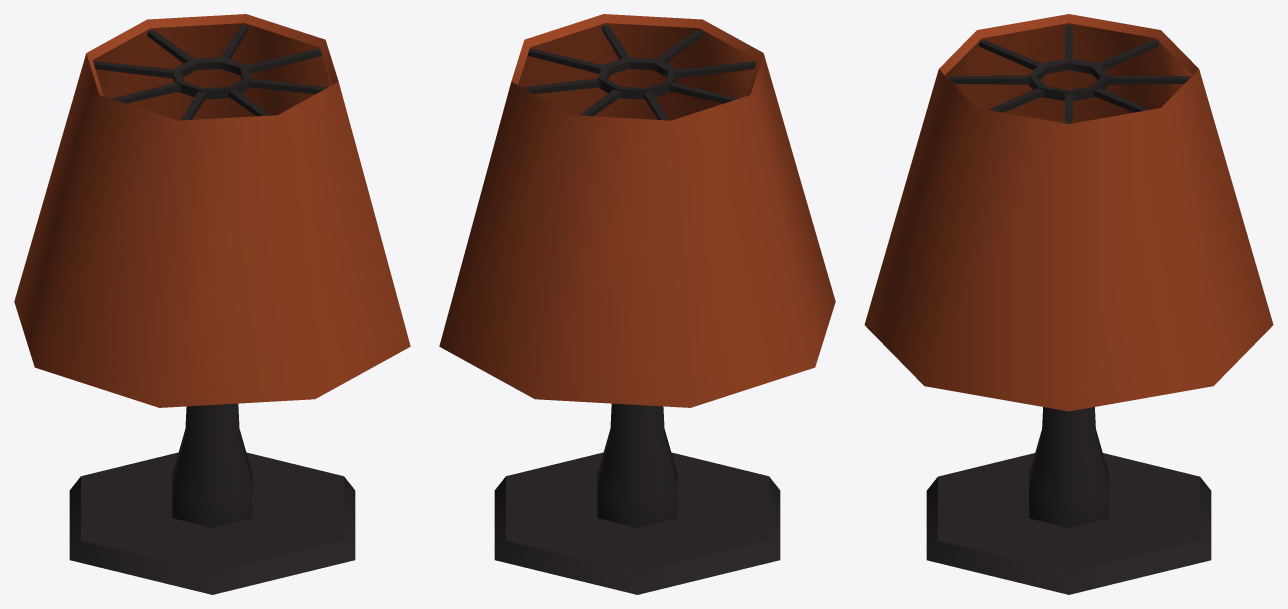
The model's file is 14_prop_bed table lamp.FBX.
3 renders of one model, left to right at view 1: azimuth 30°, elevation 25°; view 2: azimuth 150°, elevation 25°; view 3: azimuth 270°, elevation 25°, orthographic.
Visible parts, largest first — view 1: prop_bed table lamp(light), prop_bad table lamp; view 2: prop_bed table lamp(light), prop_bad table lamp; view 3: prop_bed table lamp(light), prop_bad table lamp.
Boxes of the visible parts, x1=… form: prop_bed table lamp(light): x1=14, y1=14, x2=410, y2=407; prop_bad table lamp: x1=69, y1=25, x2=355, y2=594; prop_bed table lamp(light): x1=439, y1=14, x2=835, y2=407; prop_bad table lamp: x1=494, y1=25, x2=780, y2=594; prop_bed table lamp(light): x1=864, y1=14, x2=1273, y2=411; prop_bad table lamp: x1=926, y1=25, x2=1211, y2=594.
Bounding box in the file's own units: 15.46 × 19.03 × 15.46.
